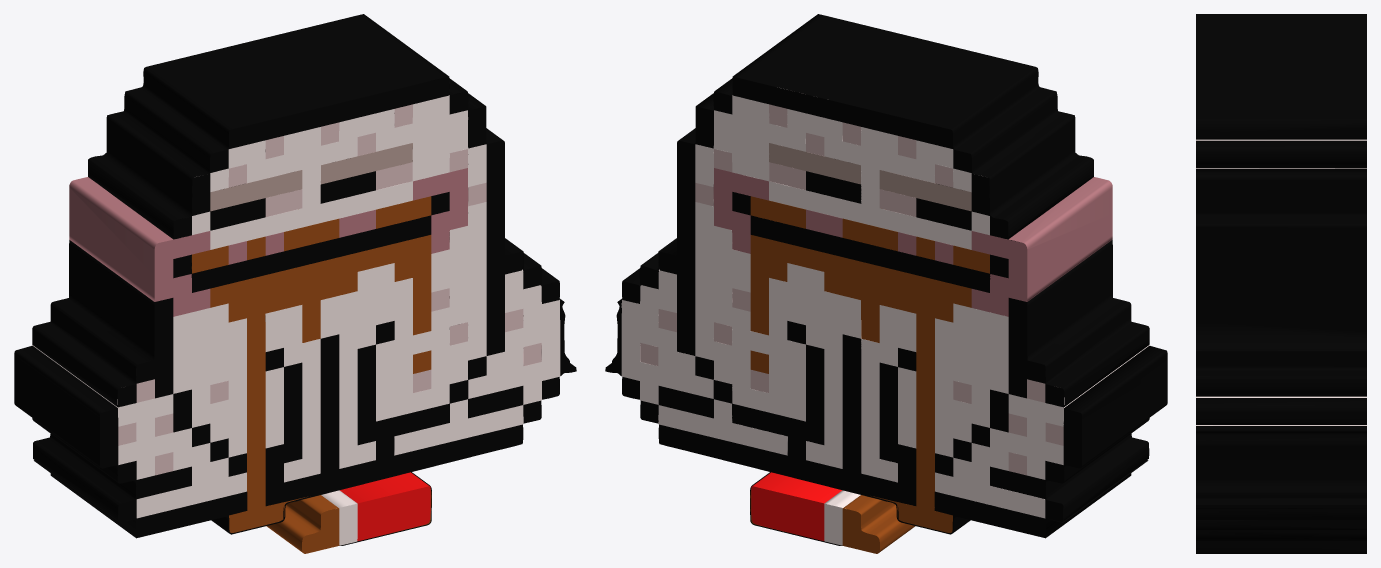
The model's file is Toadz_3441.glb.
The picture shows the model from 3 angles, left to right: view 1: azimuth 30°, elevation 25°; view 2: azimuth 150°, elevation 25°; view 3: azimuth 270°, elevation 25°; orthographic projection.
Parts seen in each view (by area): view 1: Curve; view 2: Curve; view 3: Curve.
Part boxes in pixels (bbox=[...]): Curve: bbox=[14, 14, 576, 553]; Curve: bbox=[605, 14, 1167, 553]; Curve: bbox=[1196, 14, 1366, 553].
Bounding box in the file's own units: 3.22 × 2.86 × 1.
